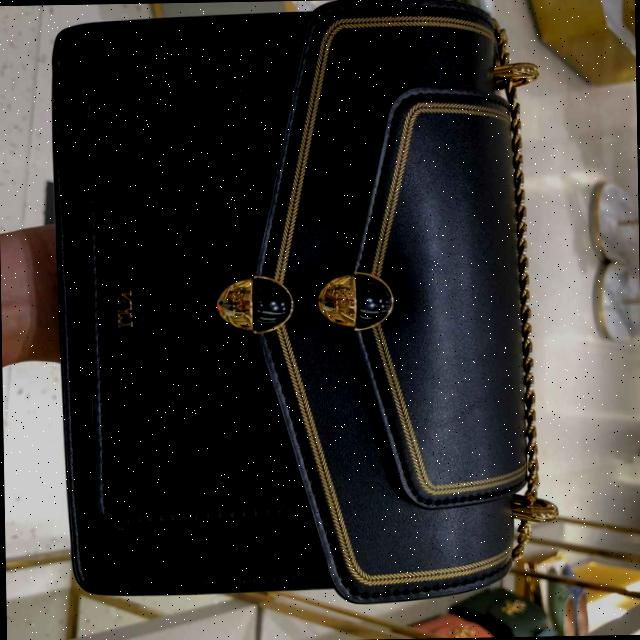Handbag: (42, 0, 538, 610)
